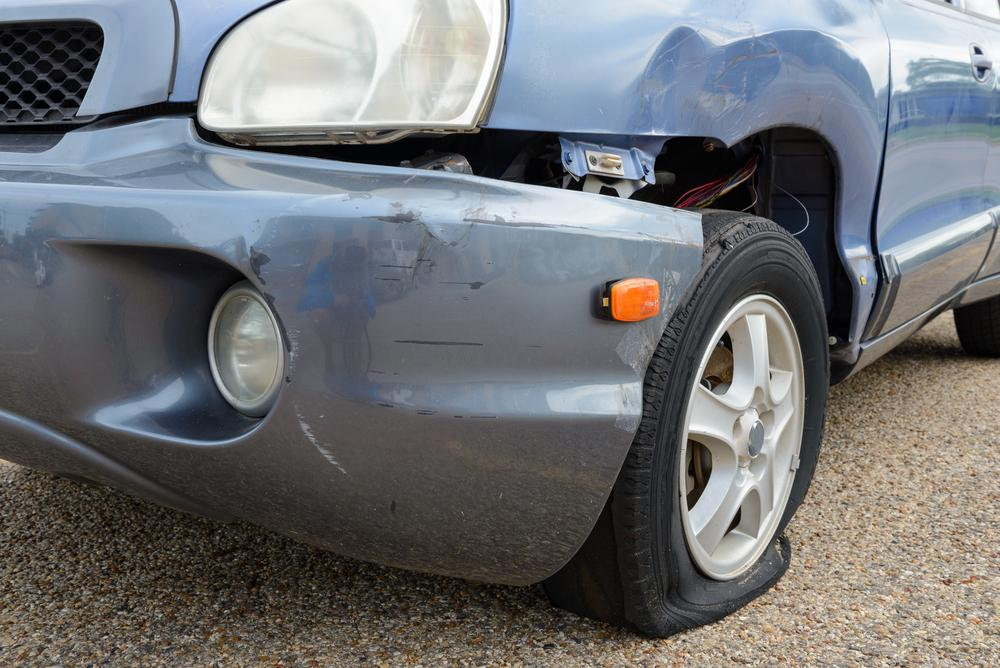dent: (647, 25, 715, 133)
scratch: (243, 186, 605, 478)
tire flat: (561, 208, 829, 638)
